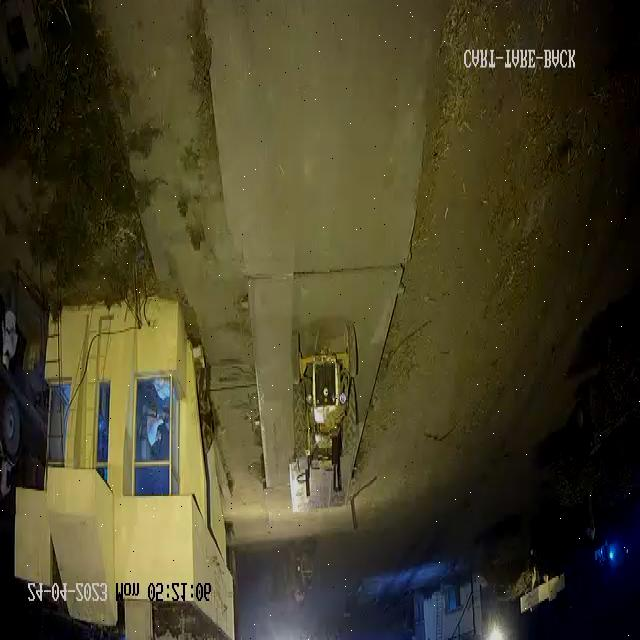Tratores - v5 YOLO V8L 2024-11-13: (294, 317, 357, 463)
